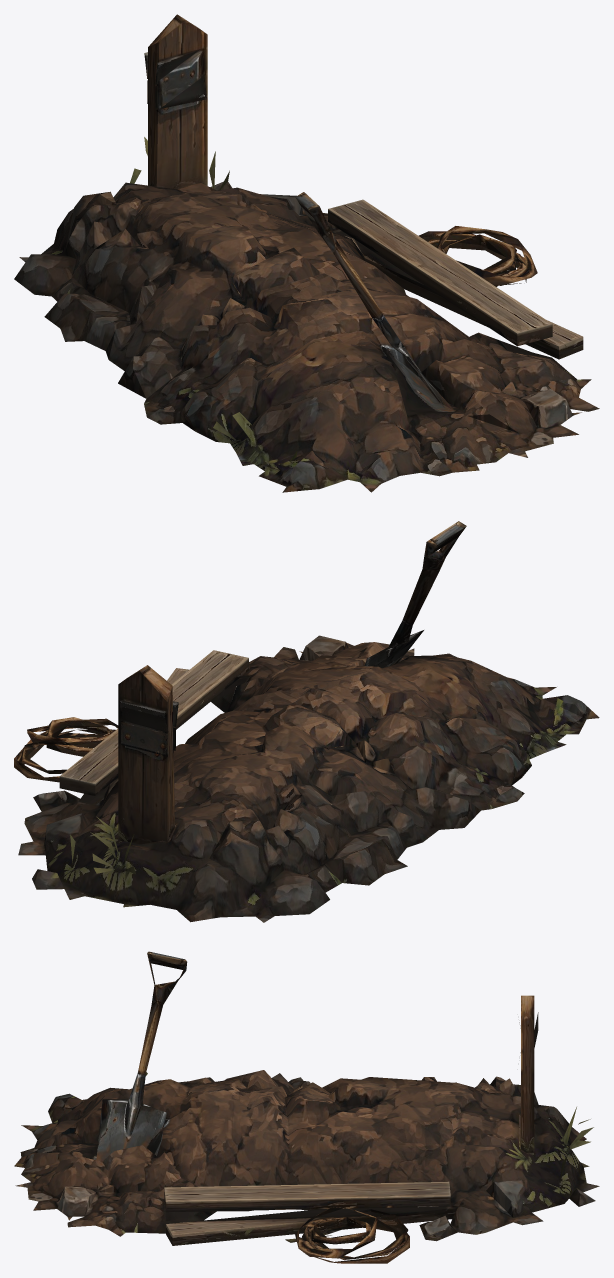
The model's file is act1_extras_v1_fresh_grave.glb.
3 views of the same model, one above another, from view 1: azimuth 30°, elevation 25°; view 2: azimuth 150°, elevation 25°; view 3: azimuth 270°, elevation 25° (orthographic). The views are drawn at different scales.
Parts seen in each view (by area): view 1: A16_4_fresh_grave; view 2: A16_4_fresh_grave; view 3: A16_4_fresh_grave.
Part boxes in pixels (x1,y1,x2,y2): A16_4_fresh_grave: (14,14,599,492); A16_4_fresh_grave: (14,521,599,922); A16_4_fresh_grave: (14,951,599,1263).
Size of the model in its own units: 0.6973 by 0.3389 by 0.9761.
1 material, 1 textured.
